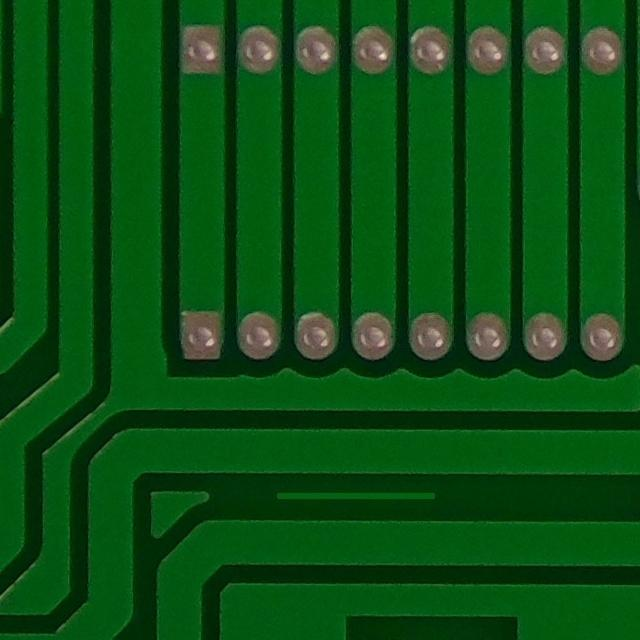spurious_copper: (262, 475, 452, 518)
